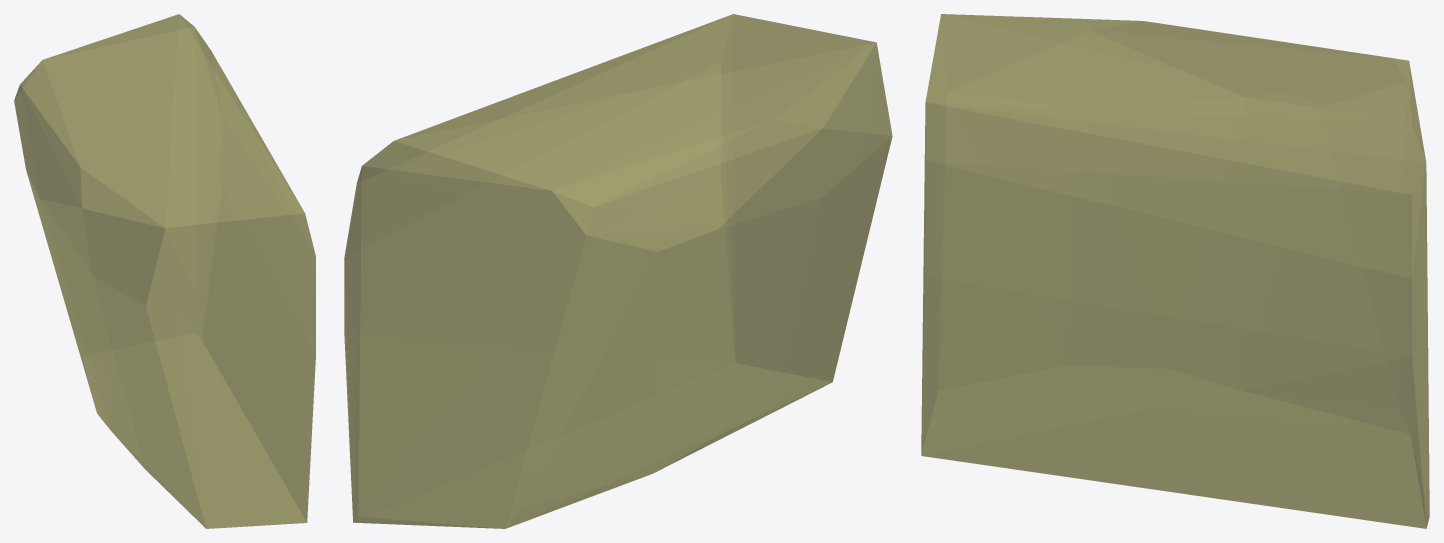
The picture shows the model from 3 angles, left to right: view 1: azimuth 30°, elevation 25°; view 2: azimuth 150°, elevation 25°; view 3: azimuth 270°, elevation 25°; orthographic projection. The views are drawn at different scales.
Parts seen in each view (by area): view 1: Shape_IndexedFaceSet.006_Shape_IndexedFaceSet.12277; view 2: Shape_IndexedFaceSet.006_Shape_IndexedFaceSet.12277; view 3: Shape_IndexedFaceSet.006_Shape_IndexedFaceSet.12277.
Part boxes in pixels (left/top/right/bottom): Shape_IndexedFaceSet.006_Shape_IndexedFaceSet.12277: left=14, top=14, right=315, bottom=528; Shape_IndexedFaceSet.006_Shape_IndexedFaceSet.12277: left=344, top=14, right=892, bottom=528; Shape_IndexedFaceSet.006_Shape_IndexedFaceSet.12277: left=921, top=14, right=1429, bottom=528.
Size of the model in its own units: 0.227 by 0.2615 by 0.3109.
